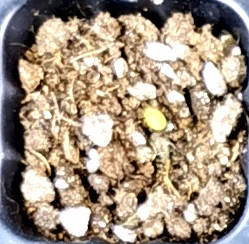pepper seed: (59, 40, 227, 172)
